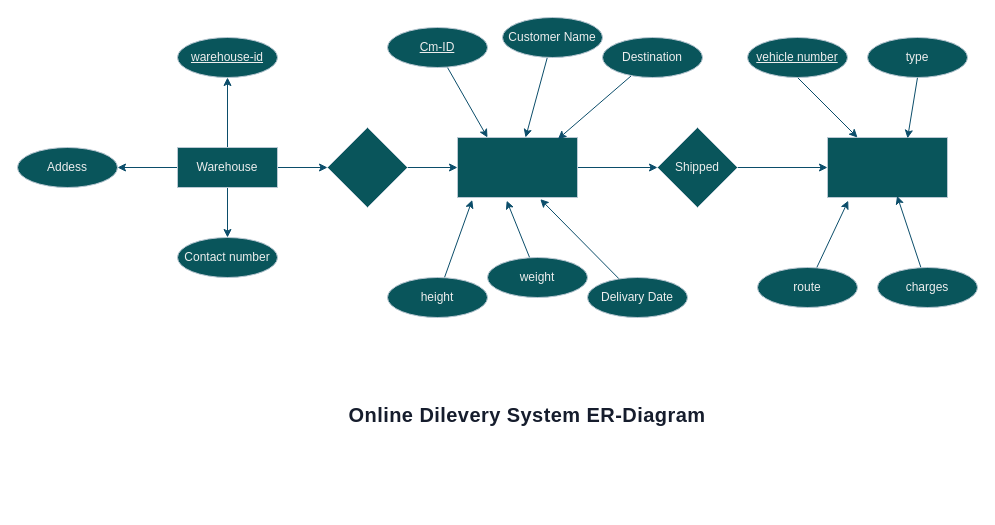
This 995x525 diagram has some shape labels left out. The centre of each missing label's shape, as x and y in pixels:
Commodity: (x=517, y=167)
Fetch: (x=367, y=167)
Vehicle: (x=887, y=167)
